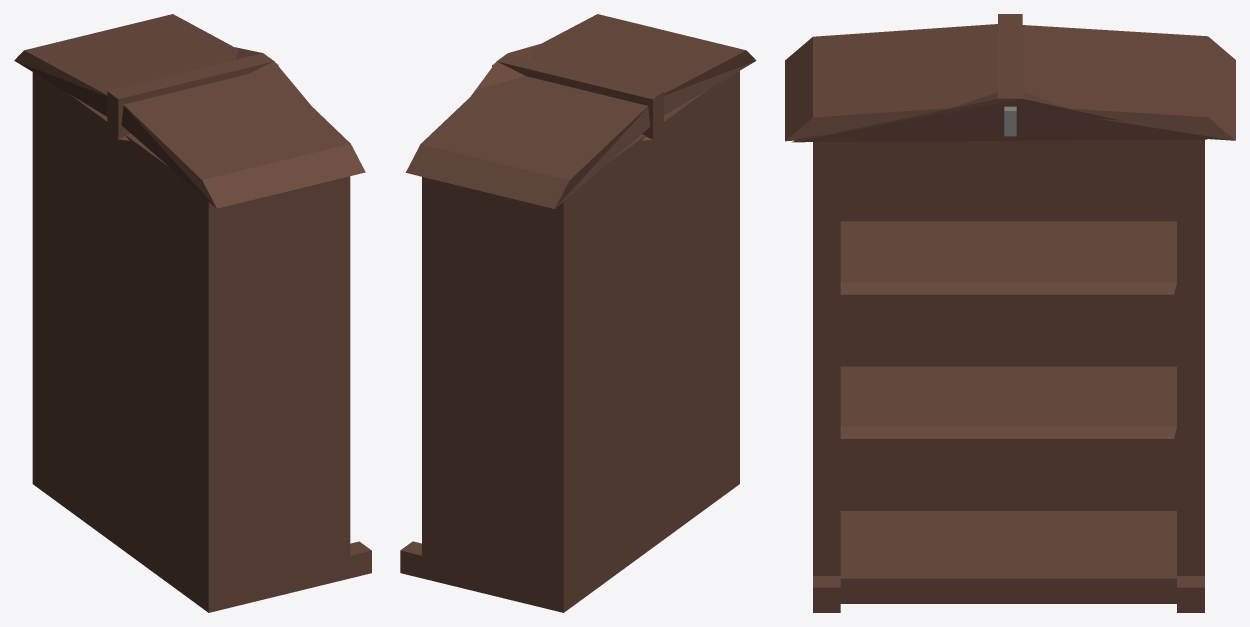
The model's file is displayDrawer.glb.
3 views of the same model, side by side, from view 1: azimuth 30°, elevation 25°; view 2: azimuth 150°, elevation 25°; view 3: azimuth 270°, elevation 25° (orthographic). The views are drawn at different scales.
Parts seen in each view (by area): view 1: node_MeshObject-266466880-PolyPaper20; view 2: node_MeshObject-266466880-PolyPaper20; view 3: node_MeshObject-266466880-PolyPaper20.
Boxes of the visible parts, x1,y1,x2,y2 form: node_MeshObject-266466880-PolyPaper20: (14, 14, 371, 612); node_MeshObject-266466880-PolyPaper20: (400, 14, 756, 612); node_MeshObject-266466880-PolyPaper20: (785, 14, 1235, 612).
Size of the model in its own units: 1.28 by 3.26 by 2.63.
